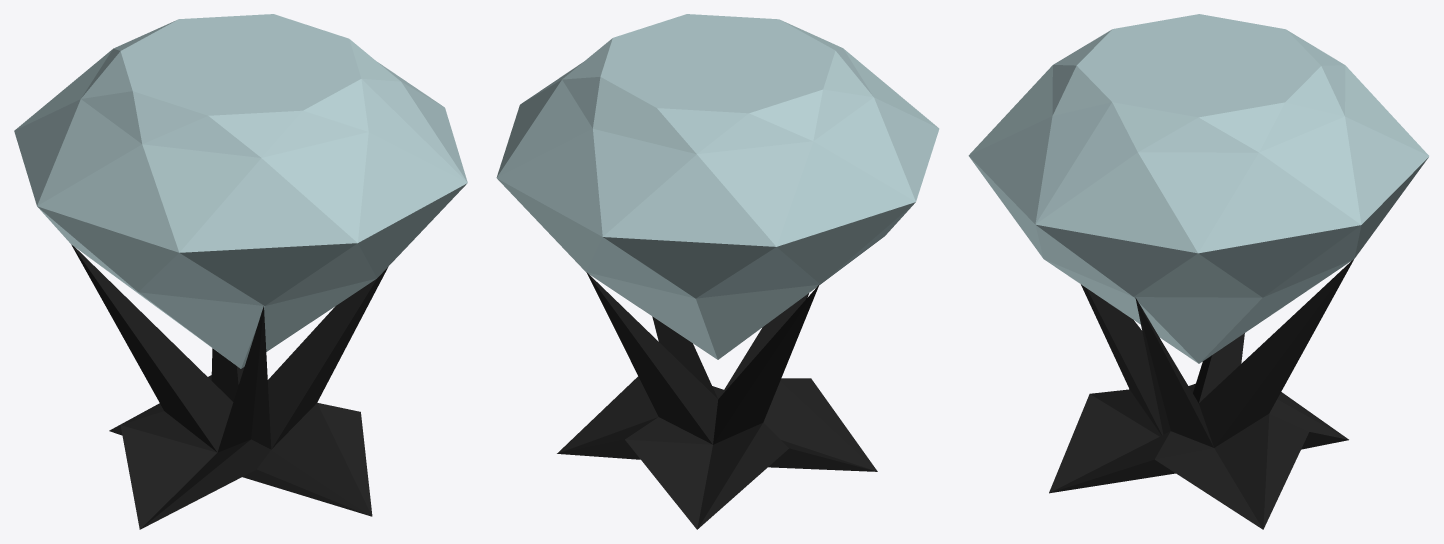
The model's file is diamond.obj.
3 views of the same model, side by side, from view 1: azimuth 30°, elevation 25°; view 2: azimuth 150°, elevation 25°; view 3: azimuth 270°, elevation 25° (orthographic). The views are drawn at different scales.
Bounding box in the file's own units: 25.68 × 24.83 × 25.68.
